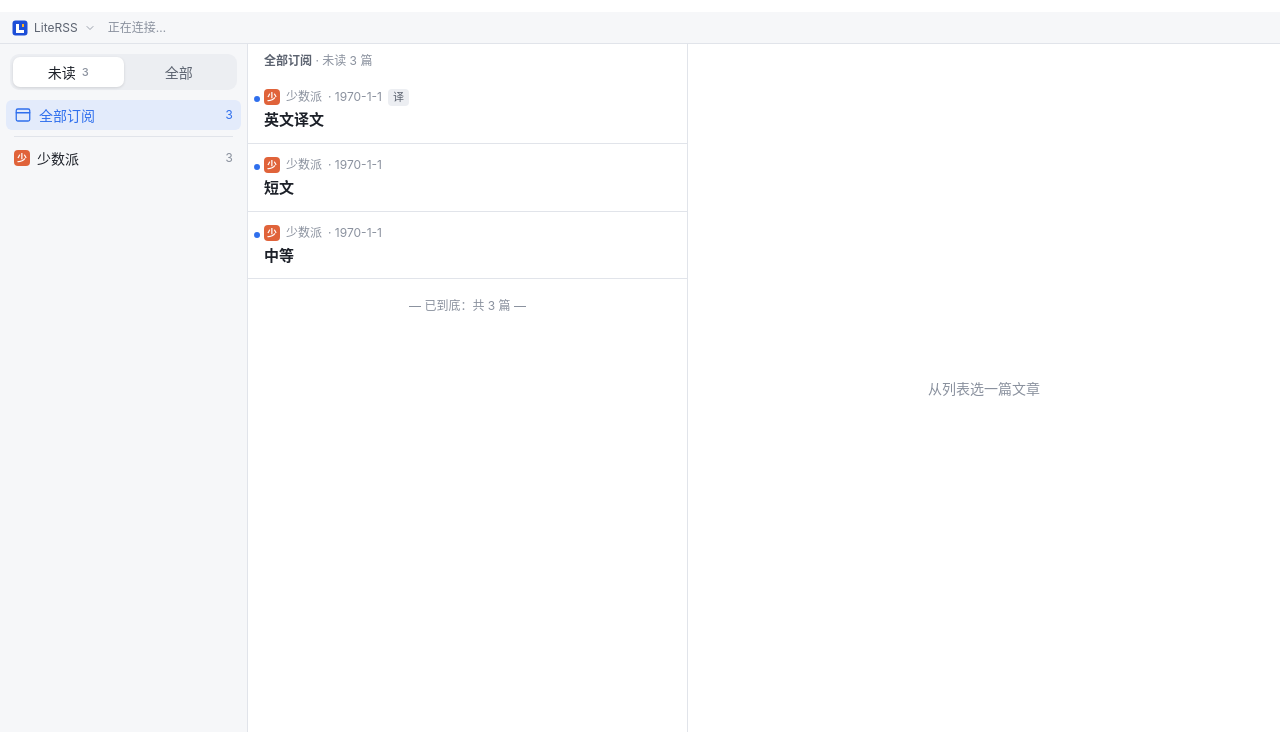
it: Bionic Reading › 设置里记着开：打开文章即加粗；换文章与对照译文时仍只加粗一次，译文不动
Click the option "少 少数派 · 1970-1-1 译 英文译文" at (304, 96), box [248, 76, 687, 144]
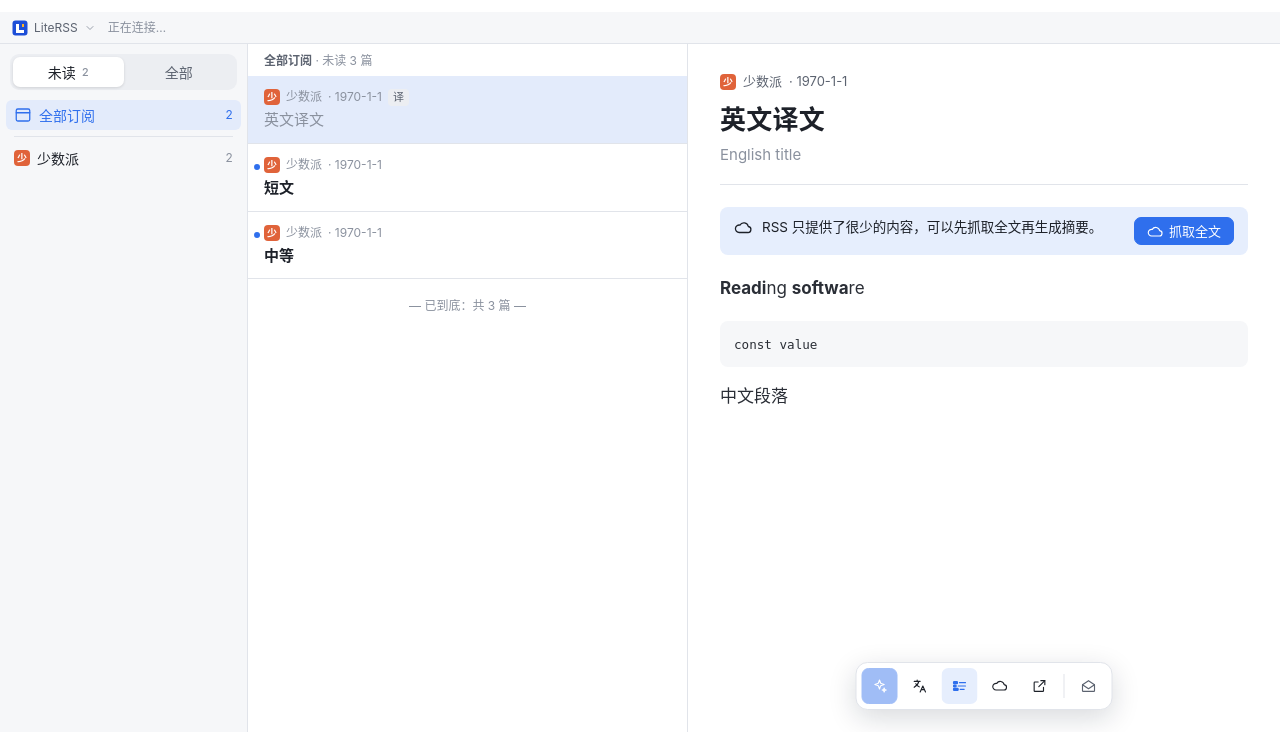
Click the button named "翻译：中英段落对照" at (920, 686), box [902, 668, 938, 704]
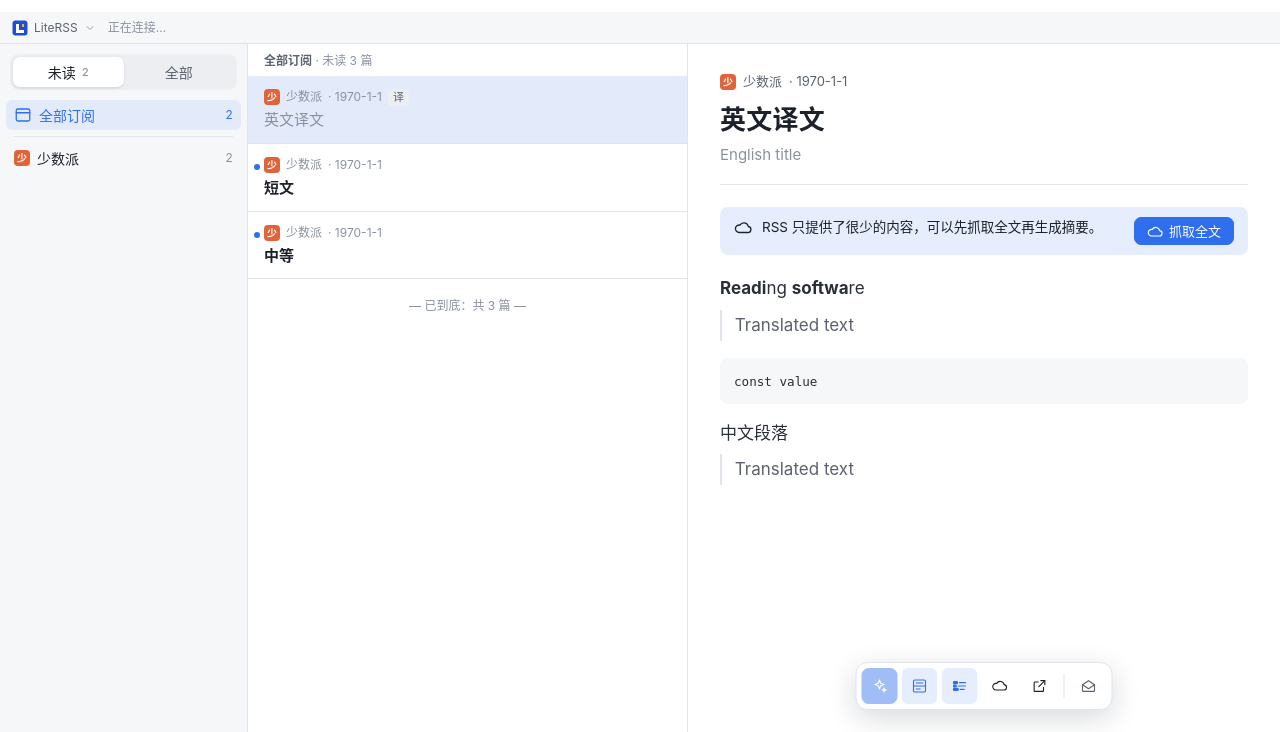
Click the option "少 少数派 · 1970-1-1 中等" at (304, 232), box [248, 212, 687, 279]
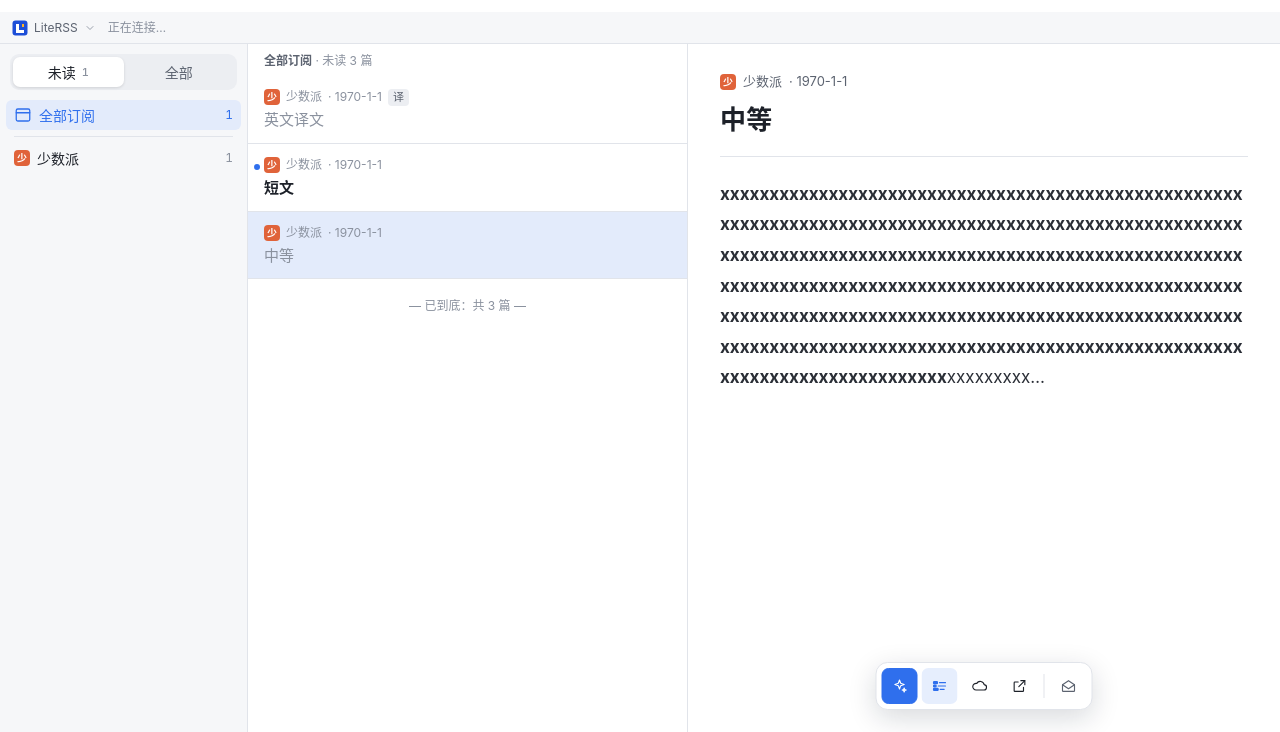
Now the number of elements with class "bionic-fix" is 1, box [720, 184, 1243, 388]
